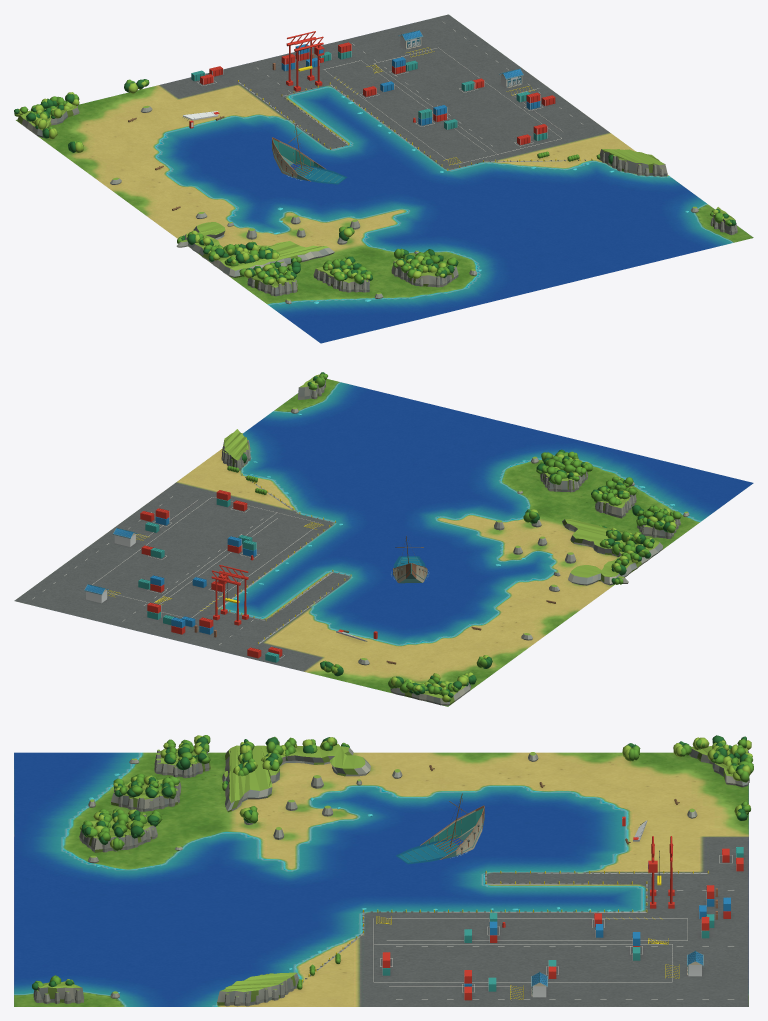
Rendered from terrain-props.glb.
3 views of the same model, one above another, from view 1: azimuth 30°, elevation 25°; view 2: azimuth 150°, elevation 25°; view 3: azimuth 270°, elevation 25° (orthographic). The views are drawn at different scales.
Parts seen in each view (by area): view 1: hm06_support_ground_water, hm06-fixed-chunk-0-3, hm06-fixed-chunk-0-4, hm06-fixed-chunk-1-4, hm06-fixed-chunk-0-0, hm06-fixed-chunk-3-0, hm06-fixed-chunk-2-2, hm06-fixed-chunk-5-3, hm06-fixed-chunk-4-0, hm06-fixed-chunk-3-1, hm06-fixed-chunk-1-3, hm06-fixed-chunk-4-1 (+3 smaller); view 2: hm06_support_ground_water, hm06-fixed-chunk-0-3, hm06-fixed-chunk-1-4, hm06-fixed-chunk-0-0, hm06-fixed-chunk-0-4, hm06-fixed-chunk-3-0, hm06-fixed-chunk-4-0, hm06-fixed-chunk-5-3, hm06-fixed-chunk-4-1, hm06-fixed-chunk-3-1, hm06-fixed-chunk-1-3, hm06-fixed-chunk-5-1 (+1 smaller); view 3: hm06_support_ground_water, hm06-fixed-chunk-0-3, hm06-fixed-chunk-1-4, hm06-fixed-chunk-0-0, hm06-fixed-chunk-0-4, hm06-fixed-chunk-5-3, hm06-fixed-chunk-2-2, hm06-fixed-chunk-3-0, hm06-fixed-chunk-2-4, hm06-fixed-chunk-4-0, hm06-fixed-chunk-5-5, hm06-fixed-chunk-1-3 (+9 smaller).
Boxes of the visible parts, <box> form: hm06_support_ground_water: <box>16,14,753,343</box>; hm06-fixed-chunk-0-3: <box>176,223,328,277</box>; hm06-fixed-chunk-0-4: <box>234,257,354,304</box>; hm06-fixed-chunk-1-4: <box>308,248,439,292</box>; hm06-fixed-chunk-0-0: <box>14,92,83,152</box>; hm06-fixed-chunk-3-0: <box>256,31,351,96</box>; hm06-fixed-chunk-2-2: <box>279,124,349,184</box>; hm06-fixed-chunk-5-3: <box>584,149,664,176</box>; hm06-fixed-chunk-4-0: <box>338,30,434,80</box>; hm06-fixed-chunk-3-1: <box>329,84,431,150</box>; hm06-fixed-chunk-1-3: <box>274,215,360,259</box>; hm06-fixed-chunk-4-1: <box>381,78,484,123</box>; hm06_support_ground_water: <box>14,379,753,706</box>; hm06-fixed-chunk-0-3: <box>565,519,662,585</box>; hm06-fixed-chunk-1-4: <box>545,456,633,514</box>; hm06-fixed-chunk-0-0: <box>388,655,492,705</box>; hm06-fixed-chunk-0-4: <box>599,487,689,538</box>; hm06-fixed-chunk-3-0: <box>158,565,265,644</box>; hm06-fixed-chunk-4-0: <box>84,575,180,621</box>; hm06-fixed-chunk-5-3: <box>221,429,257,477</box>; hm06-fixed-chunk-4-1: <box>141,536,242,588</box>; hm06-fixed-chunk-3-1: <box>203,540,308,609</box>; hm06-fixed-chunk-1-3: <box>494,509,583,559</box>; hm06-fixed-chunk-5-1: <box>85,522,163,570</box>; hm06_support_ground_water: <box>14,752,748,1006</box>; hm06-fixed-chunk-0-3: <box>224,736,358,803</box>; hm06-fixed-chunk-1-4: <box>90,777,179,842</box>; hm06-fixed-chunk-0-0: <box>622,735,753,787</box>; hm06-fixed-chunk-0-4: <box>114,735,227,795</box>; hm06-fixed-chunk-5-3: <box>220,972,307,1006</box>; hm06-fixed-chunk-2-2: <box>396,793,487,884</box>; hm06-fixed-chunk-3-0: <box>618,836,733,932</box>; hm06-fixed-chunk-2-4: <box>94,823,182,867</box>; hm06-fixed-chunk-4-0: <box>617,917,733,978</box>; hm06-fixed-chunk-5-5: <box>32,975,83,1003</box>; hm06-fixed-chunk-1-3: <box>225,788,340,839</box>.
Bounding box in the file's own units: 65.4 × 8.95 × 78.66.
3 materials, 2 textured.
